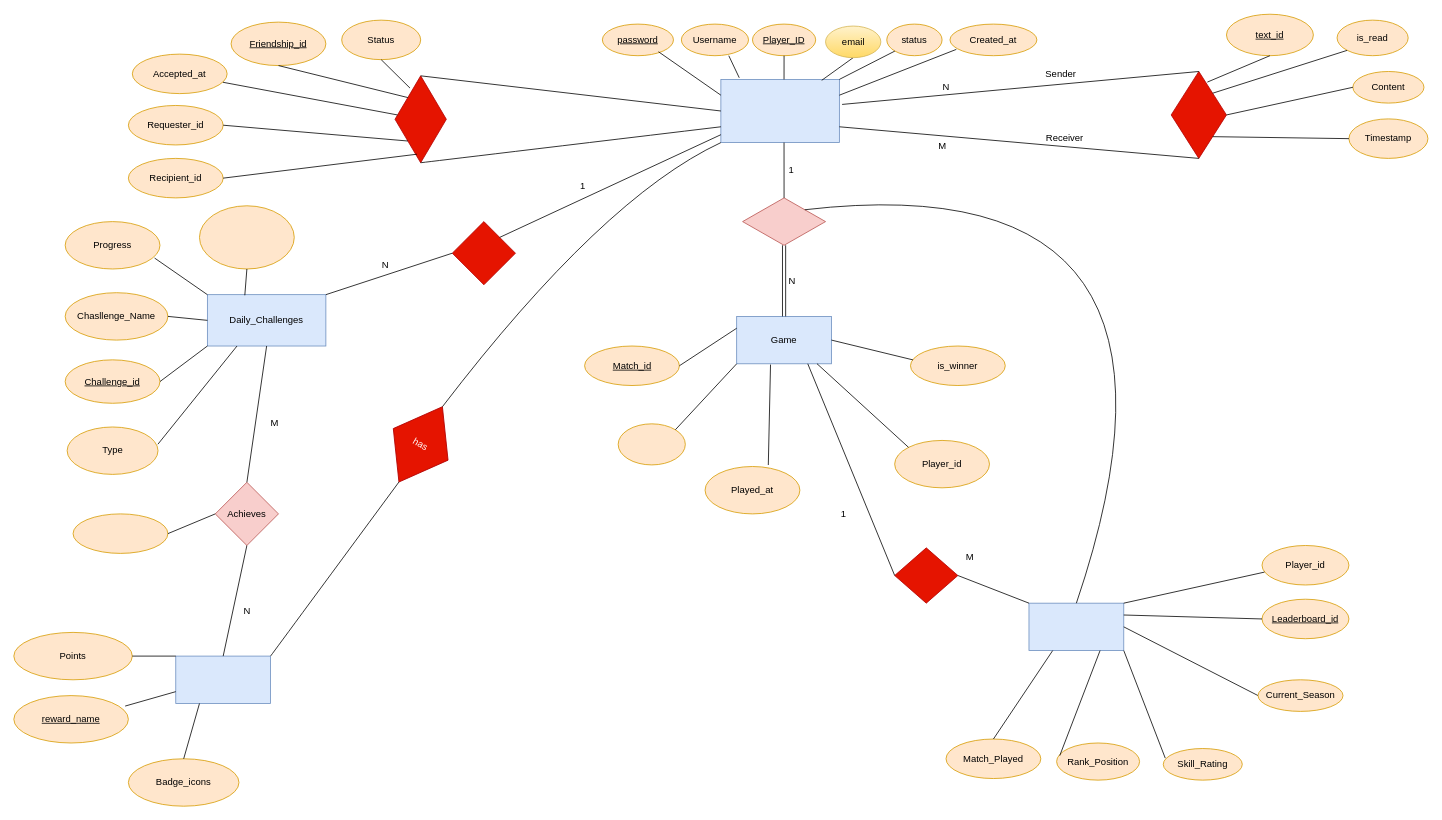
The diagram is 1442 pixels wide and 820 high, and some of its shapes have lost their labels. Each missing label, with the box of its shape:
Attempts: (451, 221, 515, 285)
Chats: (1170, 71, 1226, 158)
contains: (894, 547, 958, 603)
Count: (72, 513, 168, 553)
History_id: (617, 423, 685, 465)
is_completed: (199, 205, 294, 269)
Leaderboard: (1028, 602, 1124, 651)
Make_friends: (394, 75, 446, 163)
Participates: (742, 197, 826, 245)
Player: (720, 79, 839, 143)
Rewards: (175, 655, 271, 703)
